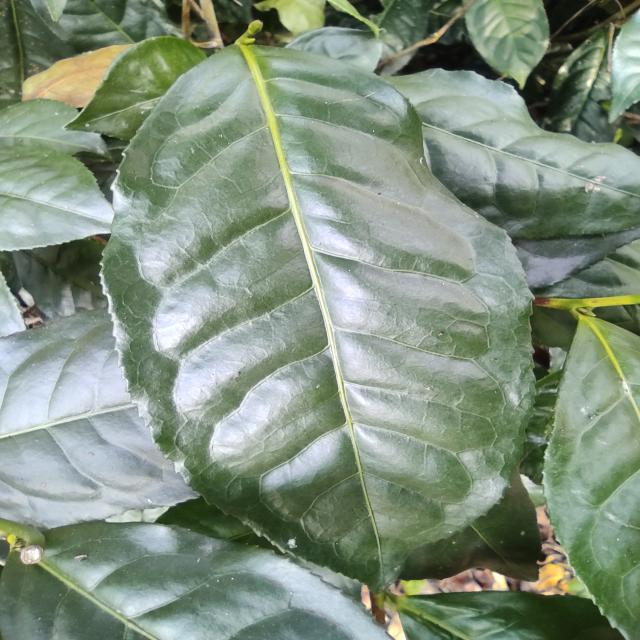Category D 7+ days, Not for Tea: (83, 22, 538, 608)
